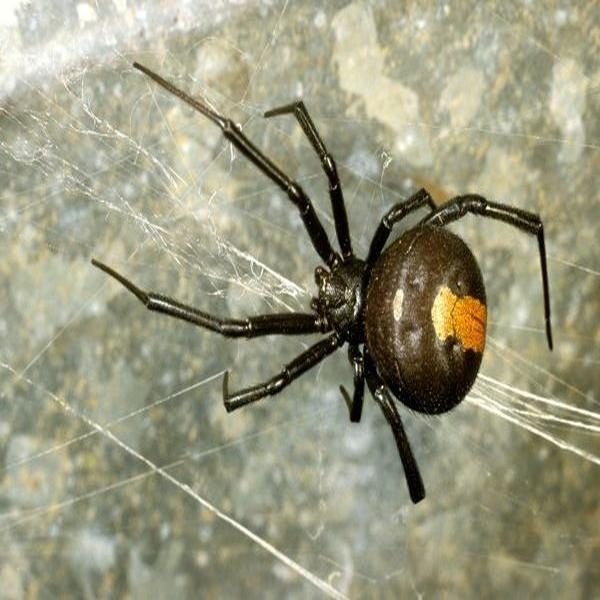Redback_Spider: (90, 63, 553, 501)
